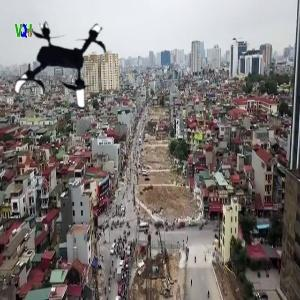drone: (8, 14, 119, 125)
